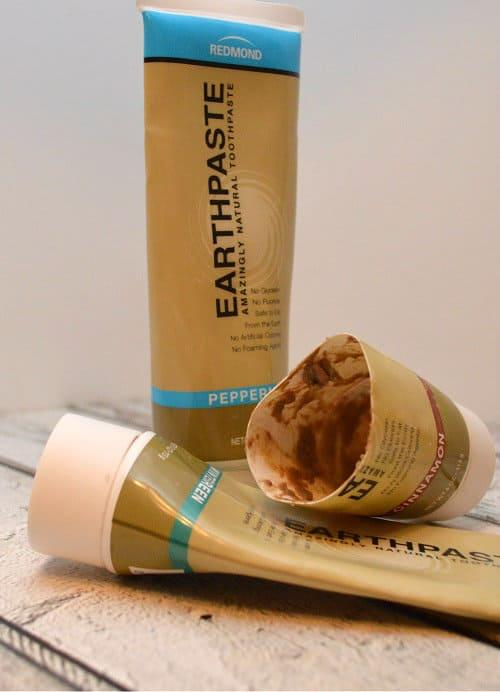toothpaste: (25, 406, 500, 638), (124, 0, 314, 506)
